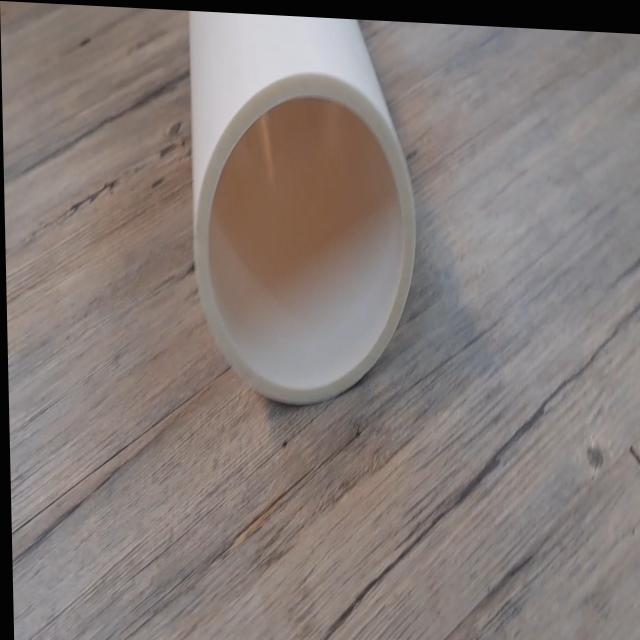CORAL: (158, 8, 437, 454)
